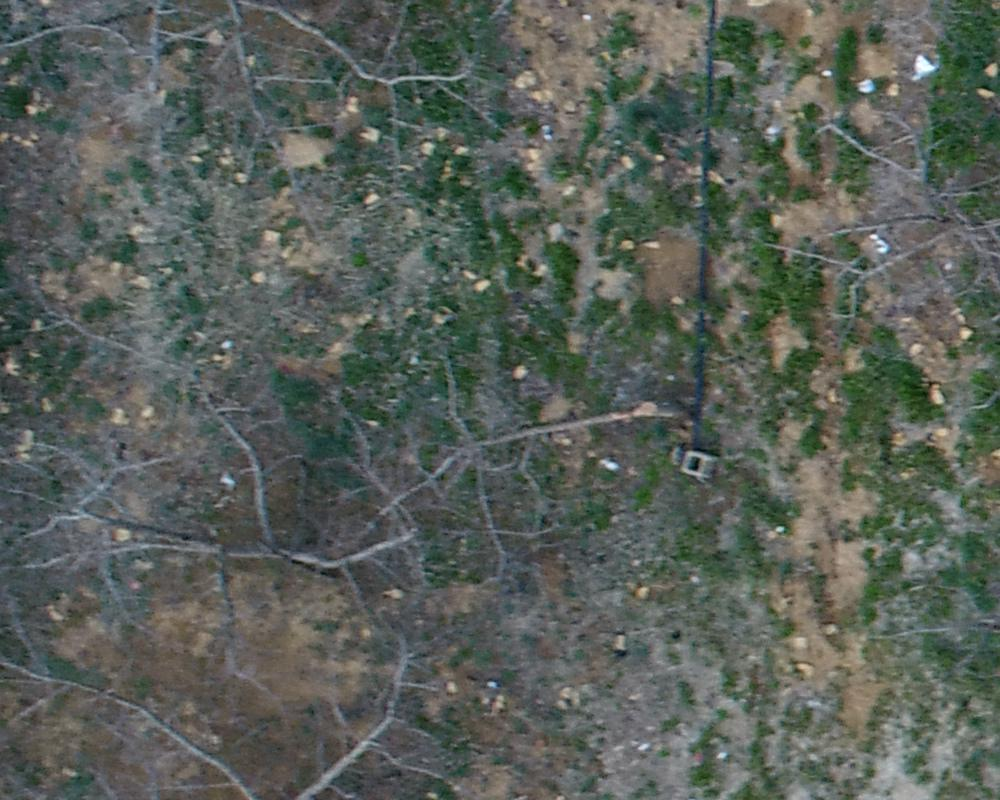apple: (16, 270, 681, 663), (752, 87, 990, 526), (14, 10, 513, 176), (10, 626, 442, 790)
